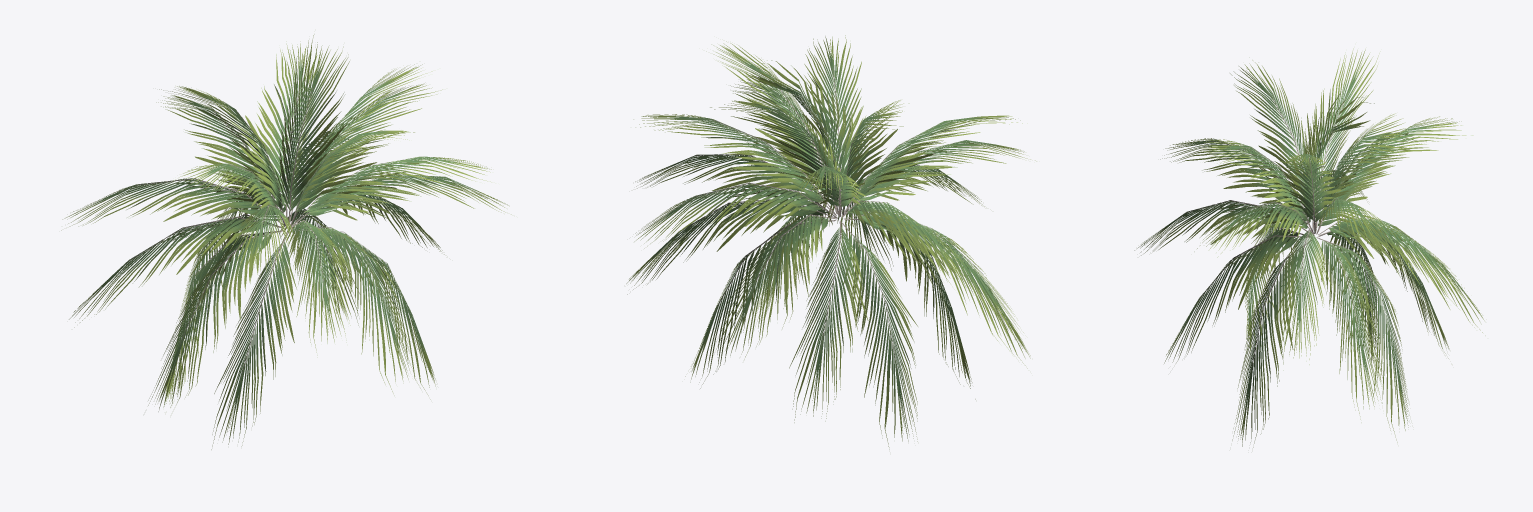
File: m_palm_p2_2_leaf_0_lev2.glb
3 renders of one model, left to right at view 1: azimuth 30°, elevation 25°; view 2: azimuth 150°, elevation 25°; view 3: azimuth 270°, elevation 25°, orthographic. The views are drawn at different scales.
Parts seen in each view (by area): view 1: m_palm_p2_2_leaf_0_lev2; view 2: m_palm_p2_2_leaf_0_lev2; view 3: m_palm_p2_2_leaf_0_lev2.
Boxes of the visible parts, <box> form: m_palm_p2_2_leaf_0_lev2: <box>61,34,511,449</box>; m_palm_p2_2_leaf_0_lev2: <box>626,35,1036,449</box>; m_palm_p2_2_leaf_0_lev2: <box>1134,48,1485,447</box>.
Bounding box in the file's own units: 4.16 × 3.16 × 3.11.
1 material, 1 textured.
